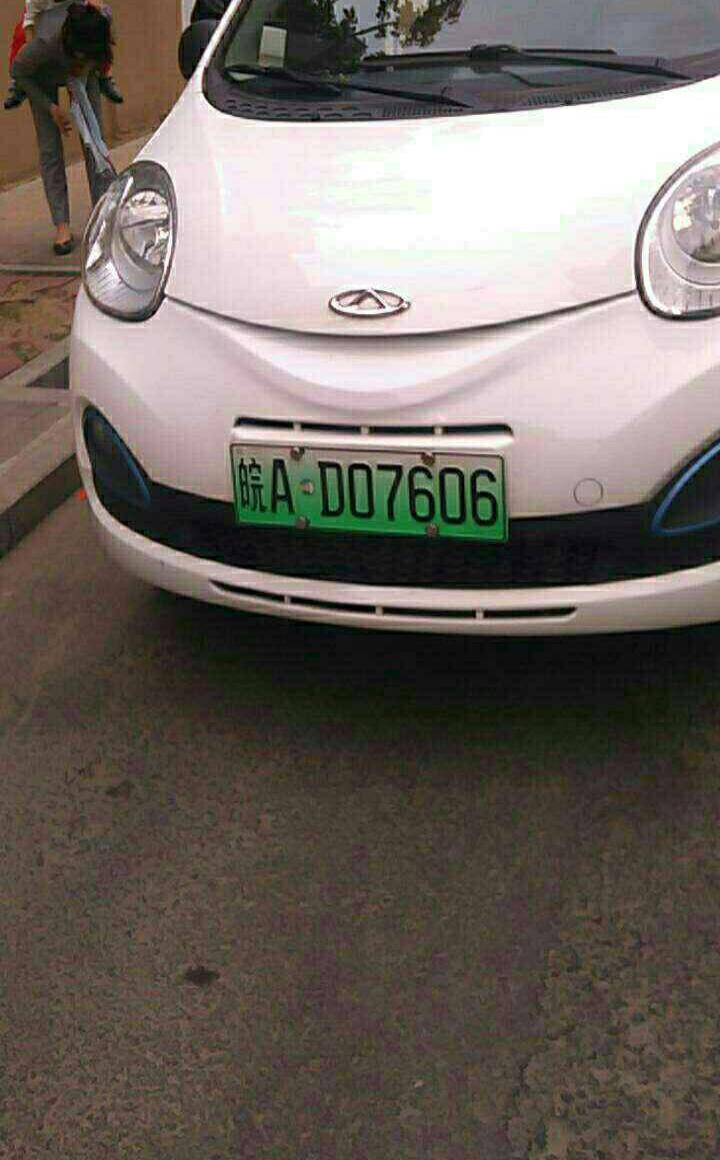car_id: (230, 446, 503, 538)
